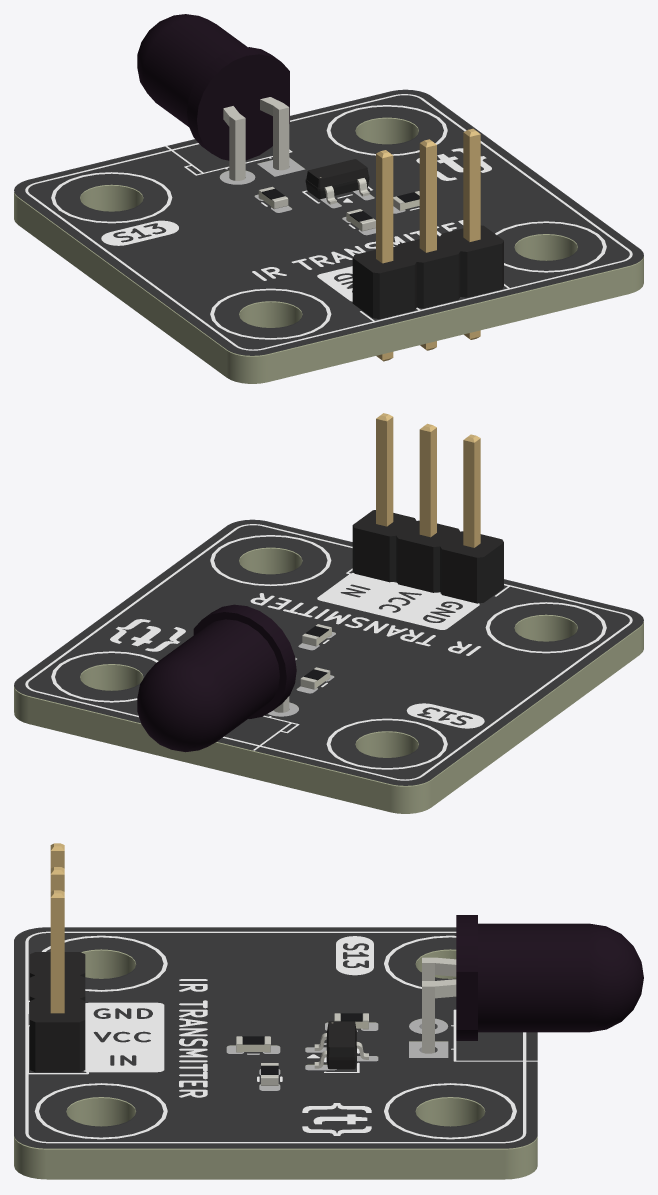
3 renders of one model, top to bottom at view 1: azimuth 30°, elevation 25°; view 2: azimuth 150°, elevation 25°; view 3: azimuth 270°, elevation 25°, orthographic. The views are drawn at different scales.
Visible parts, largest first — view 1: =>[0:1:1:9], =>[0:1:1:11], D1, J1, =>[0:1:1:7], Q1, =>[0:1:1:6]; view 2: =>[0:1:1:9], =>[0:1:1:11], D1, J1, =>[0:1:1:7]; view 3: =>[0:1:1:9], =>[0:1:1:11], D1, =>[0:1:1:7], J1, Q1, =>[0:1:1:6], R1.
Boxes of the visible parts, x1,y1,x2,y2 form: =>[0:1:1:9]: (14,89,643,355); =>[0:1:1:11]: (14,117,643,383); D1: (137,14,289,180); J1: (352,128,503,361); =>[0:1:1:7]: (25,94,632,350); Q1: (305,159,369,204); =>[0:1:1:6]: (219,158,405,235); =>[0:1:1:9]: (14,519,643,785); =>[0:1:1:11]: (14,547,643,813); D1: (137,604,296,752); J1: (352,413,503,603); =>[0:1:1:7]: (25,524,632,780); =>[0:1:1:9]: (14,927,537,1148); =>[0:1:1:11]: (14,949,537,1179); D1: (422,915,643,1053); =>[0:1:1:7]: (25,931,537,1143); J1: (30,843,85,1072); Q1: (314,1021,368,1069); =>[0:1:1:6]: (226,1018,448,1090); R1: (236,1036,270,1052).
Bounding box in the file's own units: 0.024 × 0.0115 × 0.0289.
